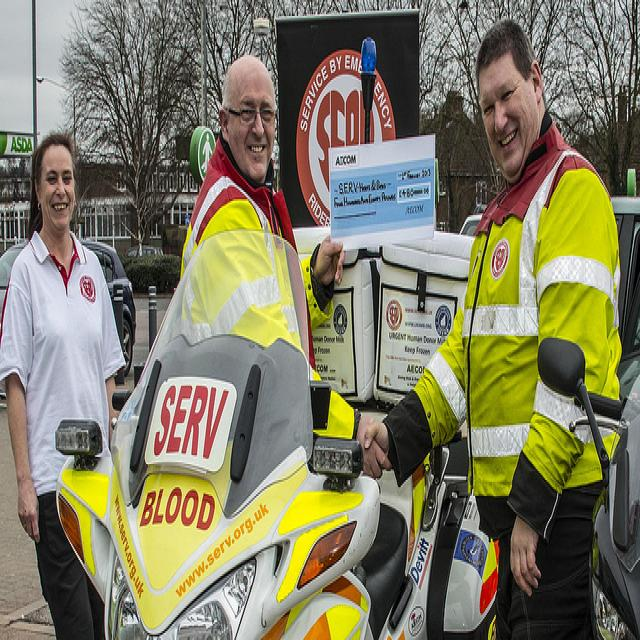motor: (55, 230, 501, 634), (539, 334, 640, 632)
